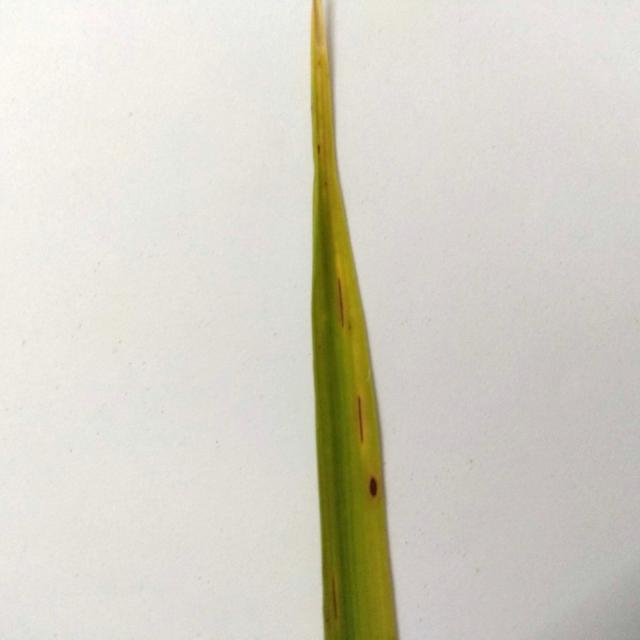Brown spot: (223, 0, 458, 640)
